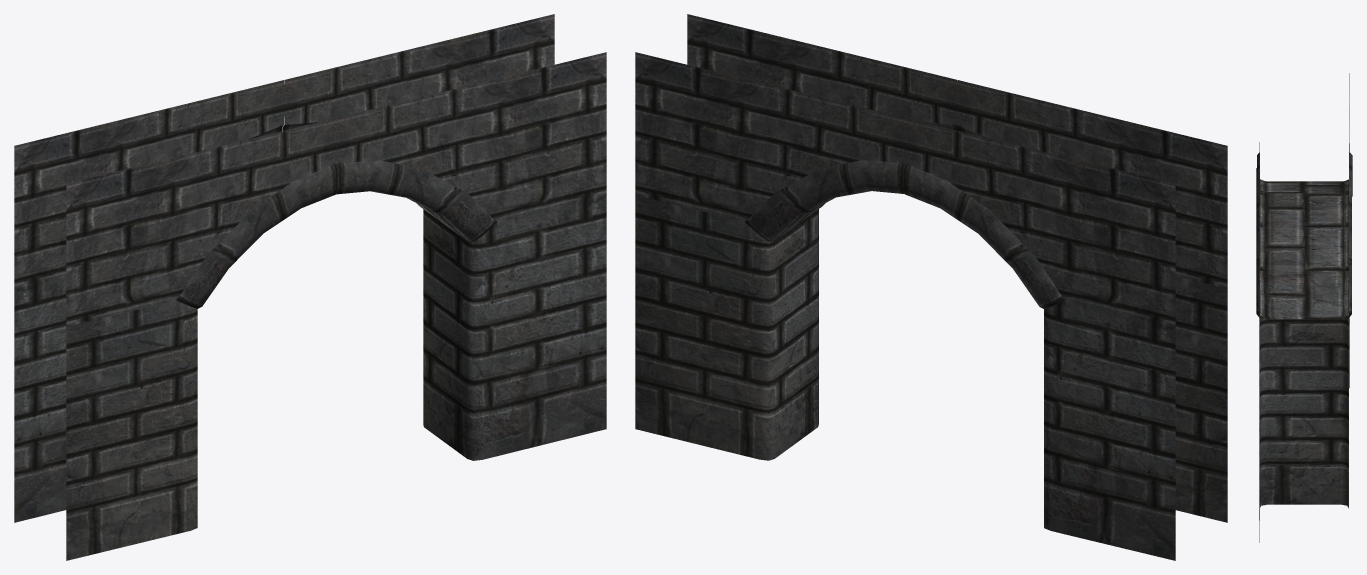
File: arch01a.FBX
3 renders of one model, left to right at view 1: azimuth 30°, elevation 25°; view 2: azimuth 150°, elevation 25°; view 3: azimuth 270°, elevation 25°, orthographic. The views are drawn at different scales.
Parts seen in each view (by area): view 1: stonearch001; view 2: stonearch001; view 3: stonearch001.
Boxes of the visible parts, x1,y1,x2,y2 form: stonearch001: (14,14,606,560); stonearch001: (635,14,1227,560); stonearch001: (1256,73,1352,542).
Bounding box in the file's own units: 6 × 4 × 1.08.
